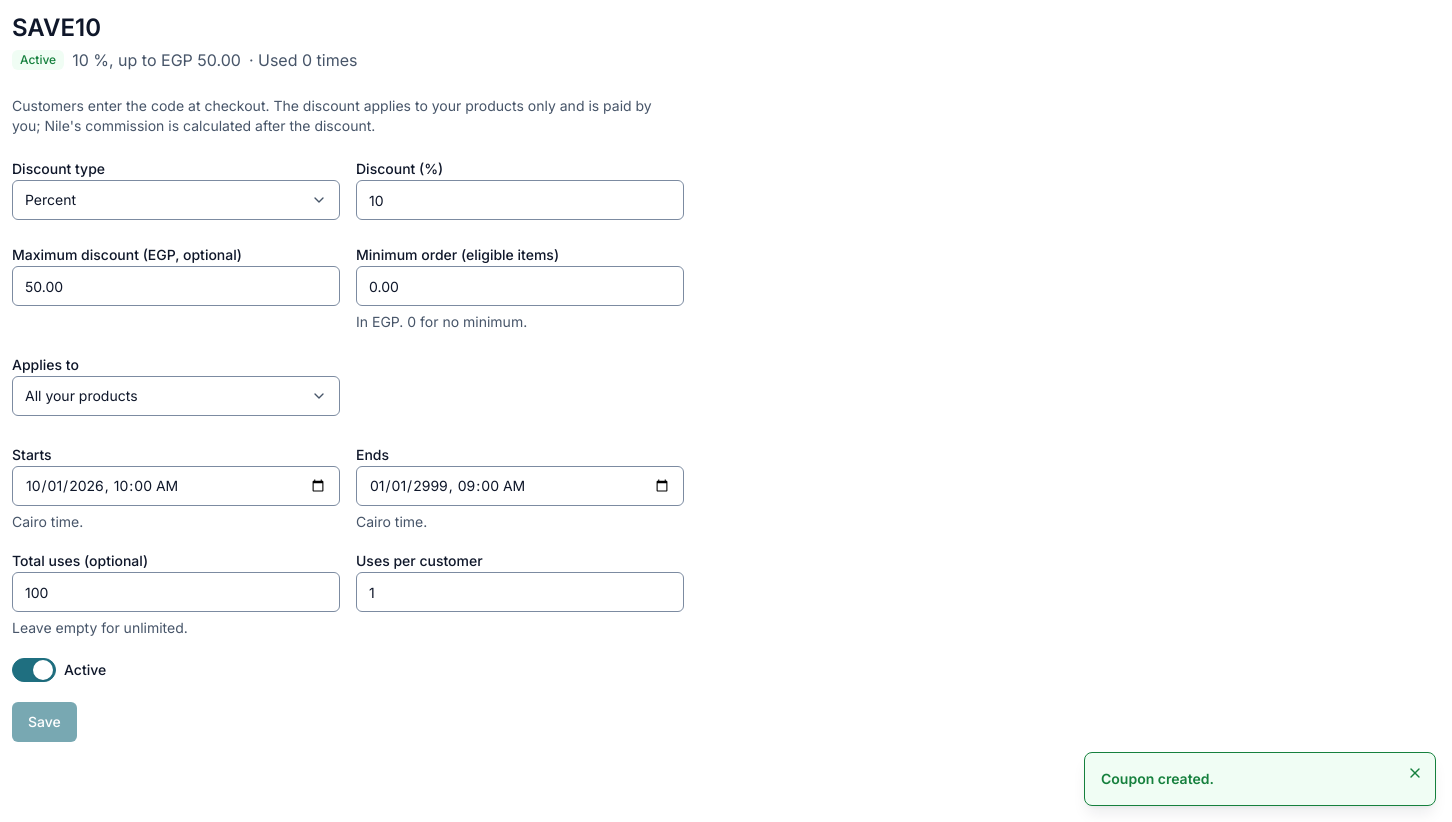
Test: coupon page (spec 02 SE-23) › edit sends only what changed; Save waits for a change
Expected: the heading "SAVE10" is shown, [12,13,101,42]
Expected: the button "Save" is disabled, [12,702,77,742]
Replace the text in the number field labelled "Uses per customer" with "3" at point(520, 592), box [356,572,684,612]
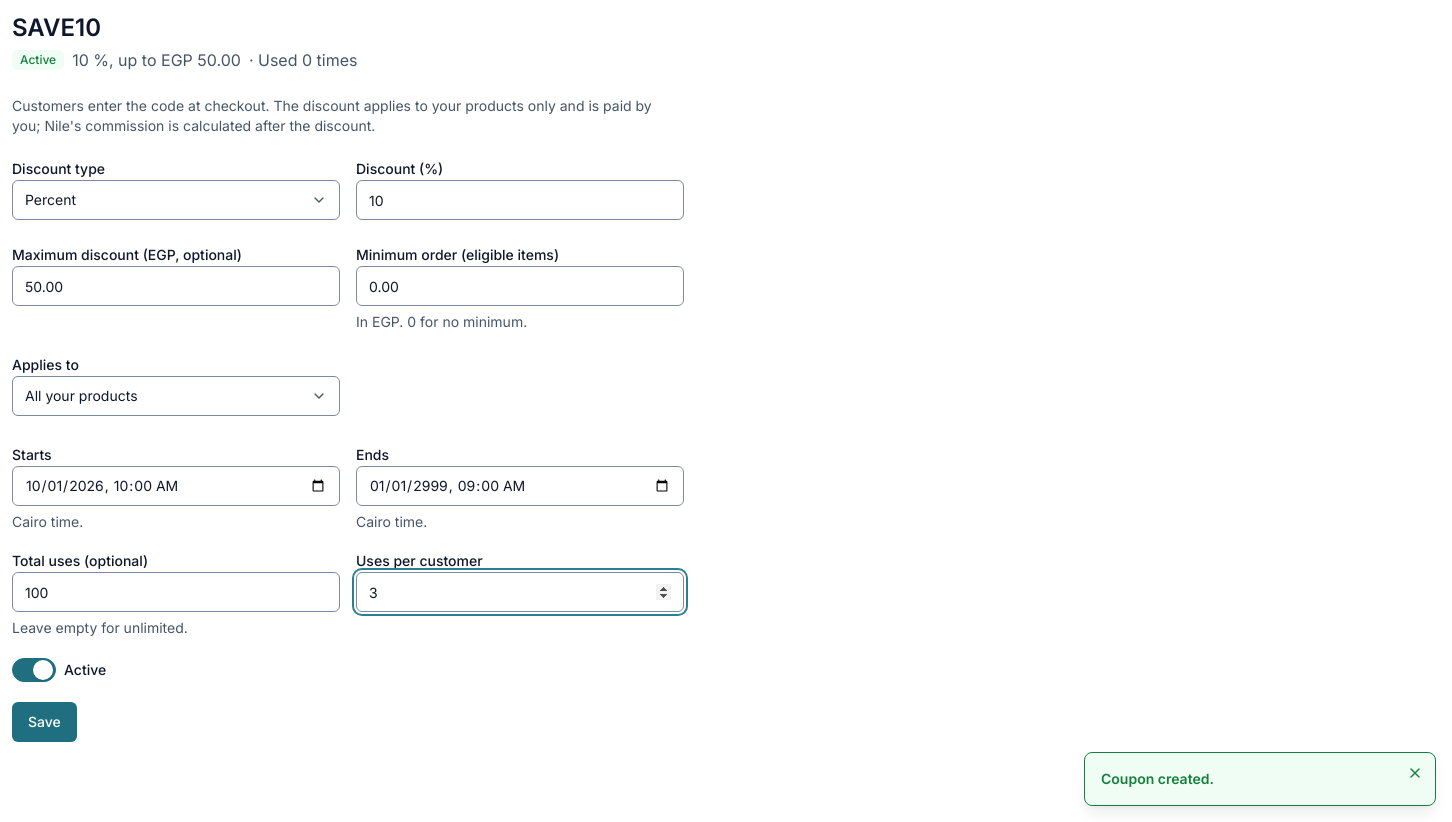
Expected: the button "Save" is enabled
Click the button "Save" at point(44, 722), box [12,702,77,742]
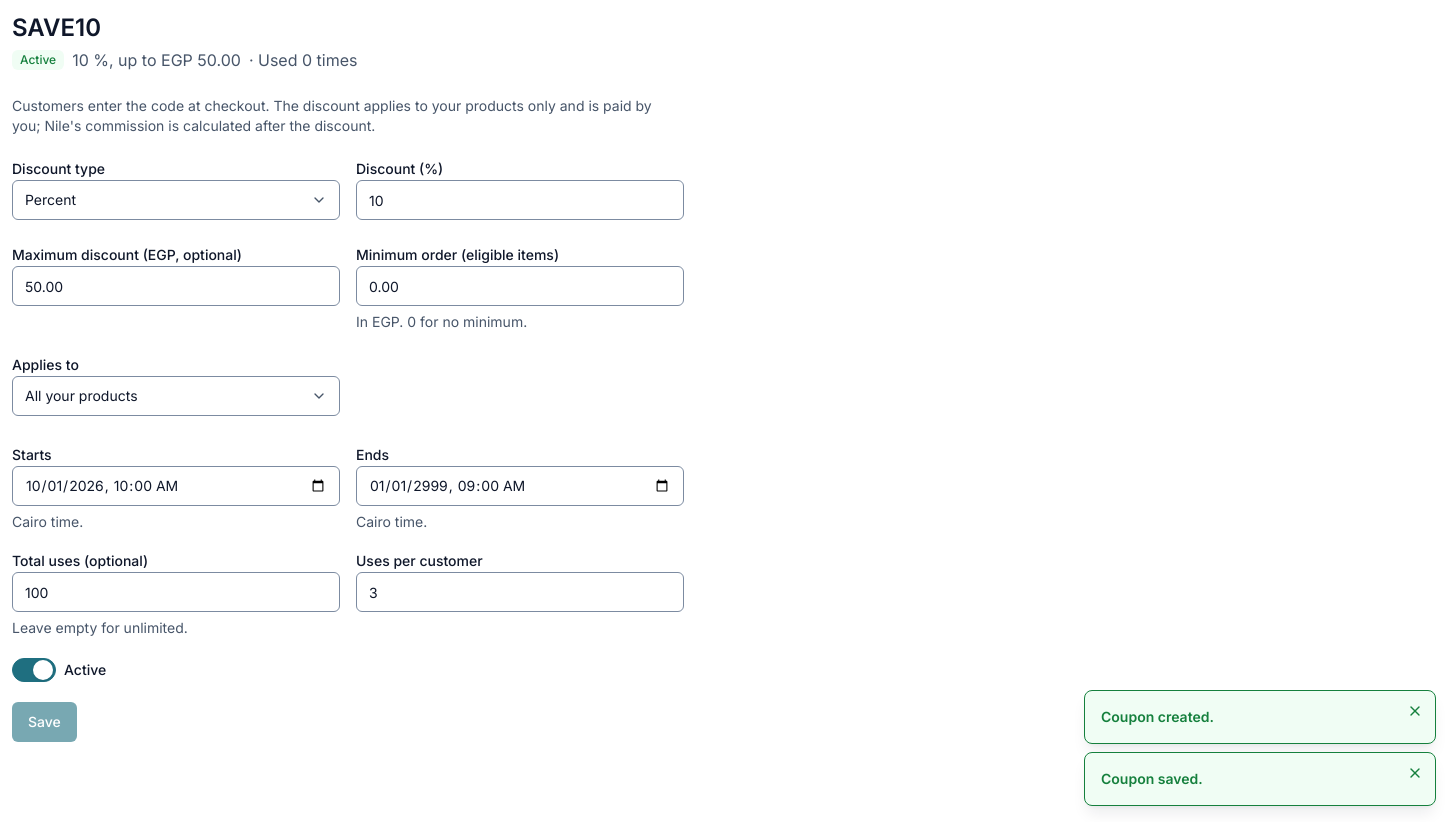
Expected: the text "Coupon saved." is shown, [1101,770,1203,787]
